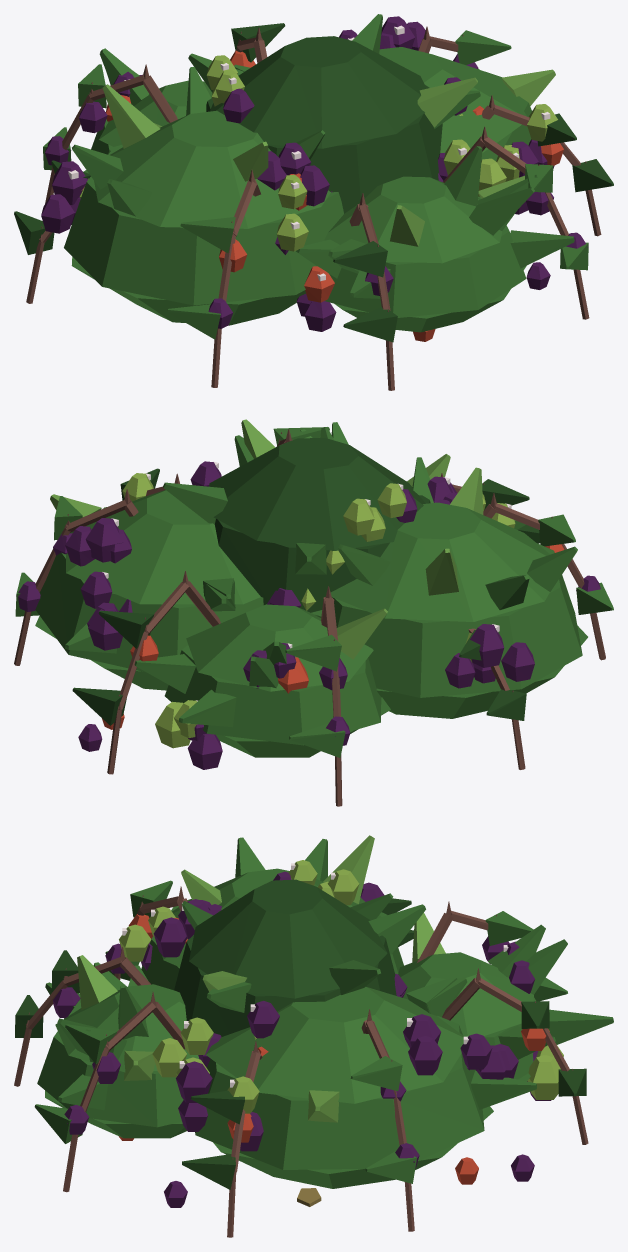
File: berry_bush_2.obj
3 renders of one model, top to bottom at view 1: azimuth 30°, elevation 25°; view 2: azimuth 150°, elevation 25°; view 3: azimuth 270°, elevation 25°, orthographic.
Visible parts, largest first — view 1: Leaves, Leaf, Cane.Leaf, Cane, Berry.138, Berry.137, Berry.167, Berry.175, Berry.128, Berry.129, Berry.114, Berry.174 (+9 smaller); view 2: Leaves, Leaf, Cane.Leaf, Cane, Berry.131, Berry.137, Berry.138, Berry.143, Berry.142, Berry.165, Berry.127, Berry.124 (+7 smaller); view 3: Leaves, Leaf, Cane.Leaf, Cane, Berry.142, Berry.154, Berry.133, Berry.175, Berry.146, Berry.145, Berry.110, Berry.124 (+9 smaller).
Boxes of the visible parts, left/top/right/bottom form: Leaves: left=64, top=36, right=531, bottom=332; Leaf: left=72, top=14, right=574, bottom=298; Cane.Leaf: left=14, top=23, right=613, bottom=342; Cane: left=26, top=36, right=601, bottom=390; Berry.138: left=41, top=194, right=74, bottom=233; Berry.137: left=52, top=161, right=87, bottom=204; Berry.167: left=276, top=213, right=308, bottom=251; Berry.175: left=300, top=165, right=329, bottom=206; Berry.128: left=304, top=266, right=334, bottom=302; Berry.129: left=304, top=301, right=336, bottom=331; Berry.114: left=223, top=88, right=254, bottom=123; Berry.174: left=278, top=174, right=307, bottom=209; Leaves: left=35, top=438, right=587, bottom=757; Leaf: left=50, top=419, right=577, bottom=727; Cane.Leaf: left=15, top=427, right=613, bottom=757; Cane: left=14, top=439, right=605, bottom=806; Berry.131: left=85, top=518, right=123, bottom=562; Berry.137: left=470, top=624, right=504, bottom=667; Berry.138: left=501, top=642, right=534, bottom=681; Berry.143: left=187, top=733, right=222, bottom=769; Berry.142: left=155, top=701, right=190, bottom=748; Berry.165: left=343, top=498, right=374, bottom=535; Berry.127: left=88, top=609, right=122, bottom=650; Berry.124: left=80, top=571, right=112, bottom=608; Leaves: left=37, top=868, right=535, bottom=1188; Leaf: left=45, top=835, right=613, bottom=1122; Cane.Leaf: left=15, top=880, right=586, bottom=1189; Cane: left=14, top=896, right=588, bottom=1237; Berry.142: left=527, top=1055, right=560, bottom=1099; Berry.154: left=176, top=1061, right=212, bottom=1102; Berry.133: left=408, top=1036, right=442, bottom=1075; Berry.175: left=153, top=917, right=187, bottom=957; Berry.146: left=152, top=1038, right=186, bottom=1077; Berry.145: left=180, top=1017, right=213, bottom=1054; Berry.110: left=247, top=1001, right=279, bottom=1038; Berry.124: left=460, top=1033, right=492, bottom=1069.
Bounding box in the file's own units: 2.27 × 1 × 2.36.
